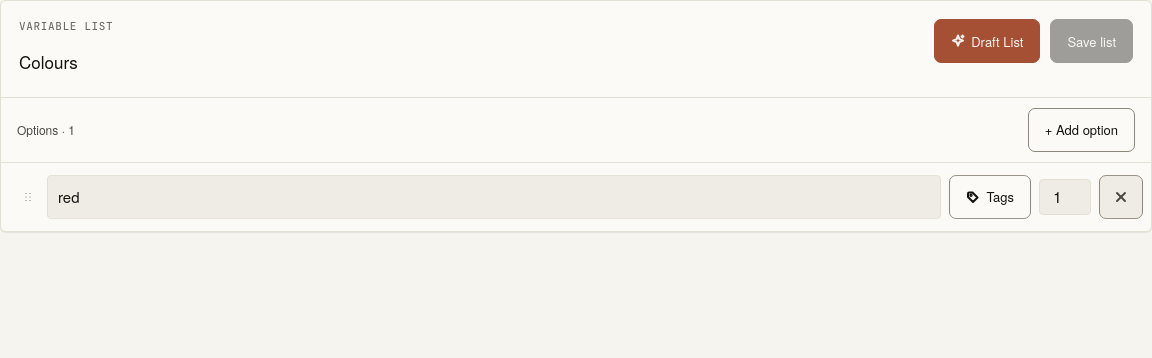
Scenario: ListEditor — AI Draft List › drafted entries are appended (deduped) and mark the form dirty
What coordinates should you click on to do the following:
click the button "Draft List"
I would click on:
 (987, 41)
Its box is [934, 19, 1040, 63].
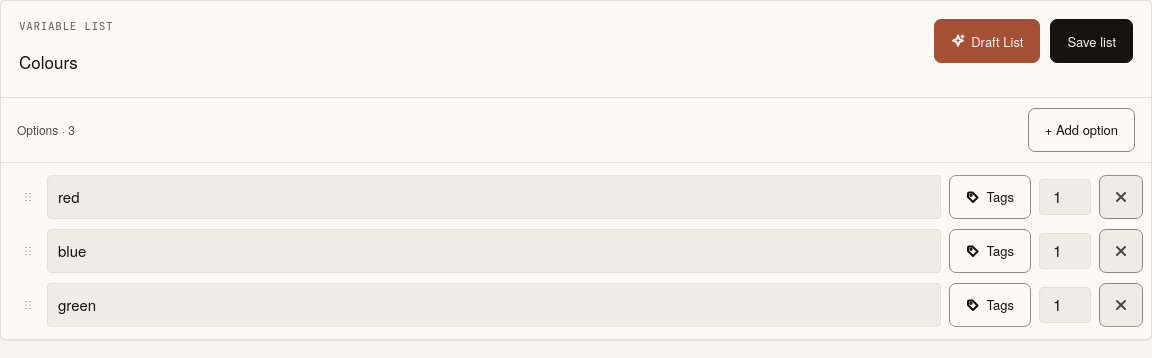
Result: the field showing "blue" is shown at [47, 229, 941, 273]
Result: the field showing "green" is shown at [47, 283, 941, 327]
Result: the button "Save list" is enabled at [1050, 19, 1133, 63]
